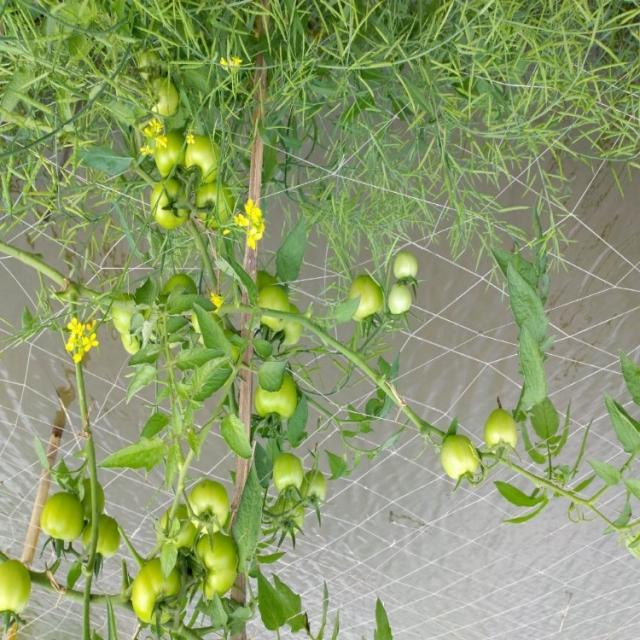tomato: (107, 546, 182, 635), (187, 510, 256, 601), (244, 278, 307, 350), (242, 370, 312, 432), (29, 486, 94, 551), (433, 422, 489, 497), (177, 480, 238, 536), (1, 544, 44, 621), (87, 500, 131, 566), (266, 444, 311, 506), (174, 140, 236, 184), (481, 398, 522, 464), (148, 73, 196, 125), (146, 186, 194, 237), (190, 186, 243, 227), (380, 252, 431, 292), (390, 276, 428, 324), (298, 466, 337, 509), (272, 495, 304, 543), (143, 145, 185, 178), (348, 278, 382, 318)
